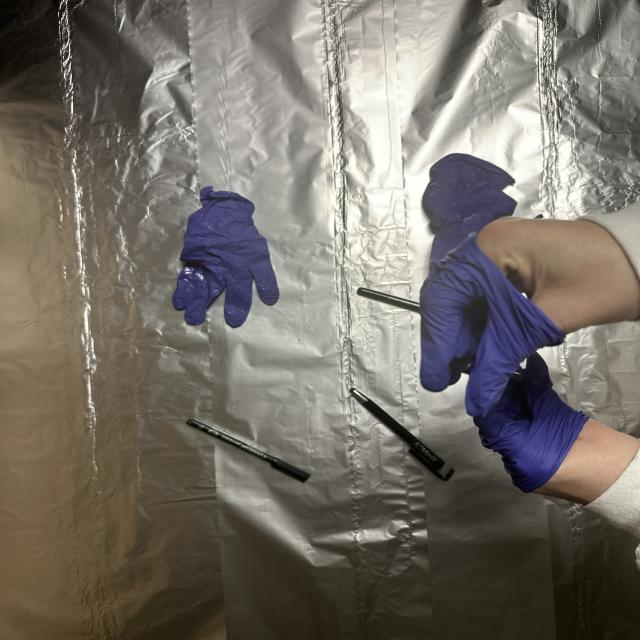glove_partial: (420, 213, 640, 412), (448, 349, 640, 511)
